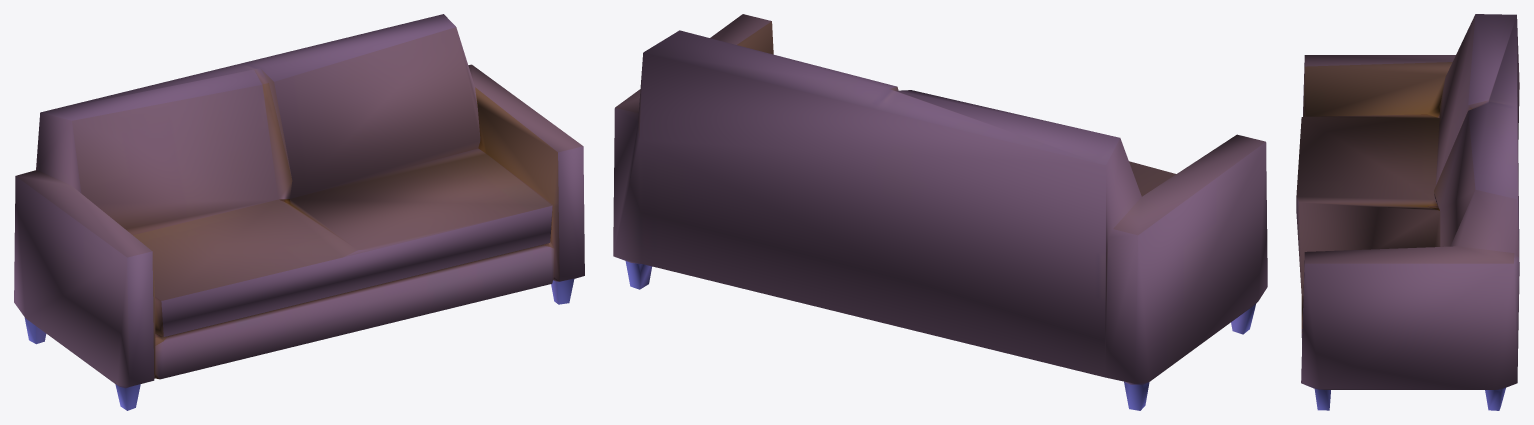
Rendered from model.progressive.glb.
The picture shows the model from 3 angles, left to right: view 1: azimuth 30°, elevation 25°; view 2: azimuth 150°, elevation 25°; view 3: azimuth 270°, elevation 25°; orthographic projection. The views are drawn at different scales.
Visible parts, largest first — view 1: BreakRoomCouch2; view 2: BreakRoomCouch2; view 3: BreakRoomCouch2.
Part boxes in pixels (<box>): BreakRoomCouch2: <box>14,14,584,410</box>; BreakRoomCouch2: <box>613,14,1267,410</box>; BreakRoomCouch2: <box>1296,14,1519,410</box>.
Size of the model in its own units: 1.87 by 0.8612 by 0.8397.
1 material, 1 textured.
